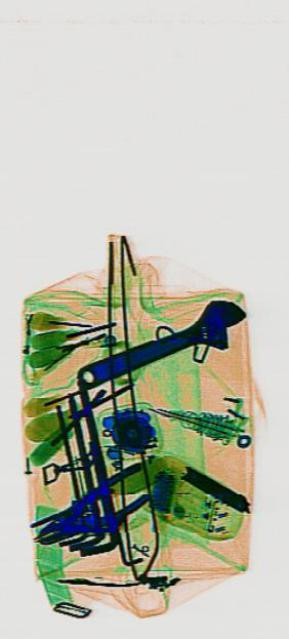Pliers: (34, 479, 116, 556)
Wrench: (72, 284, 247, 407)
